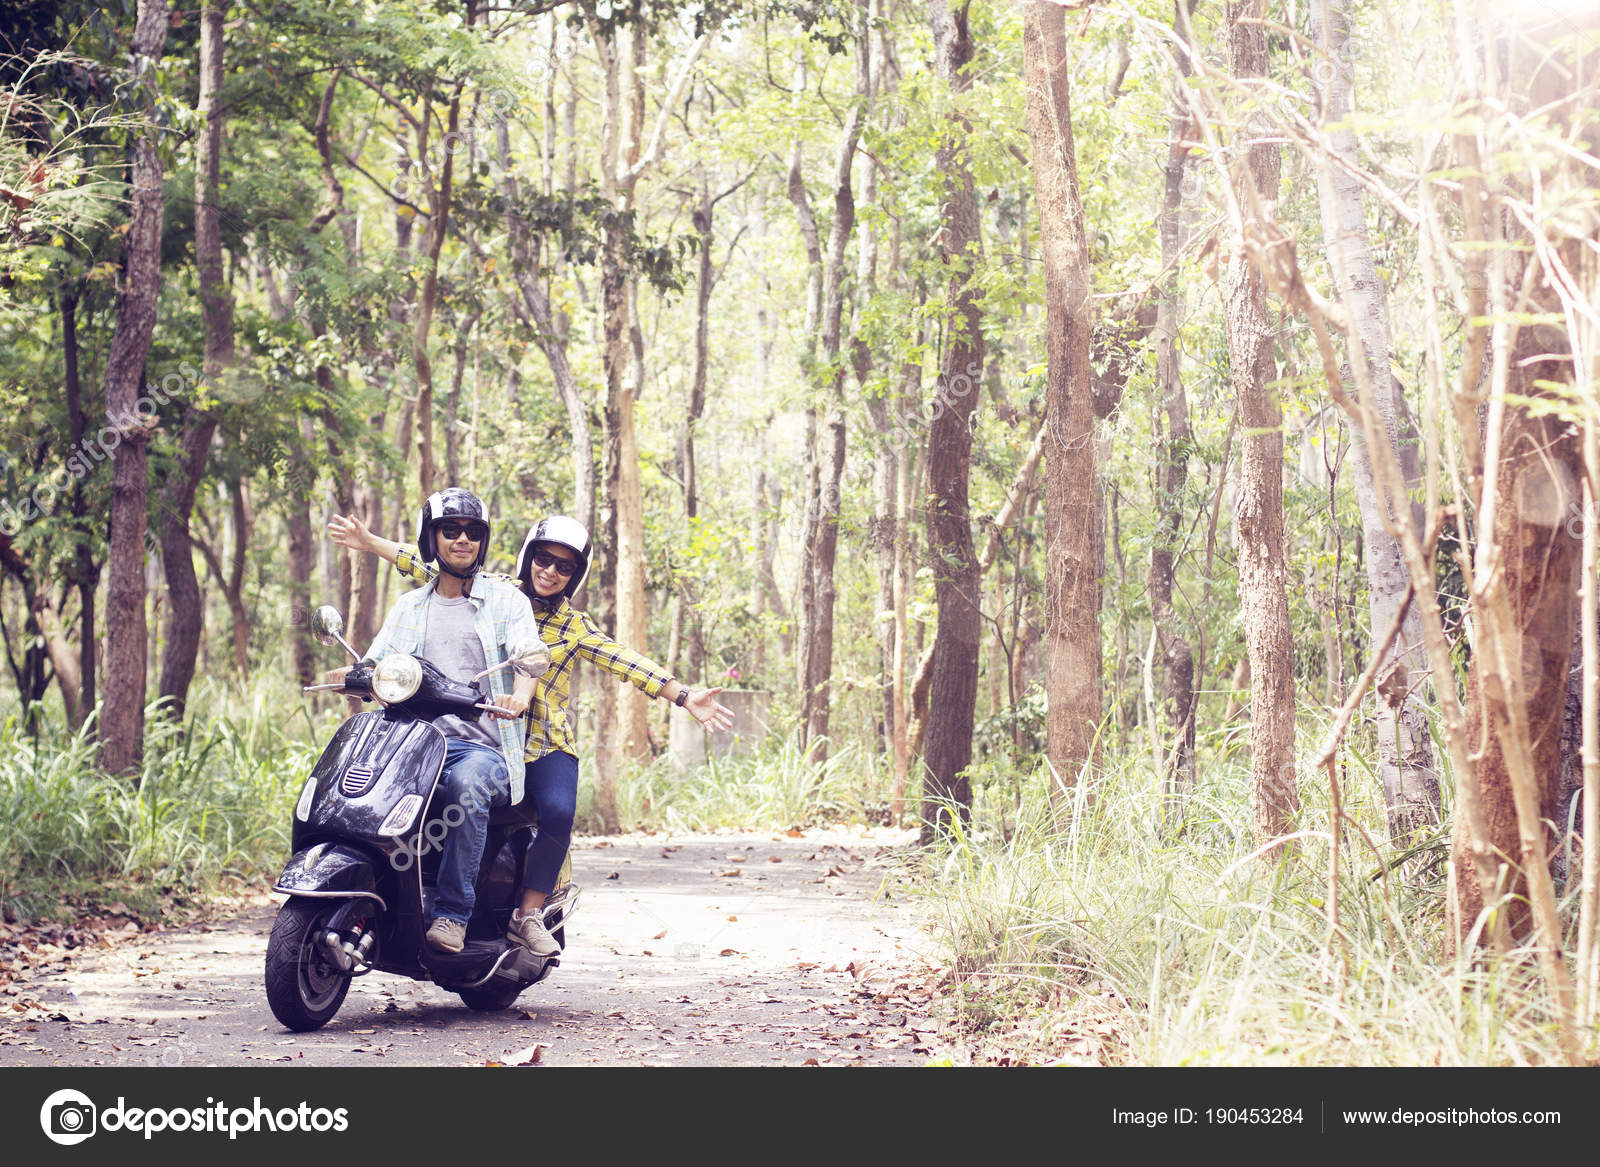helmet: (415, 487, 501, 559), (525, 519, 601, 582)
